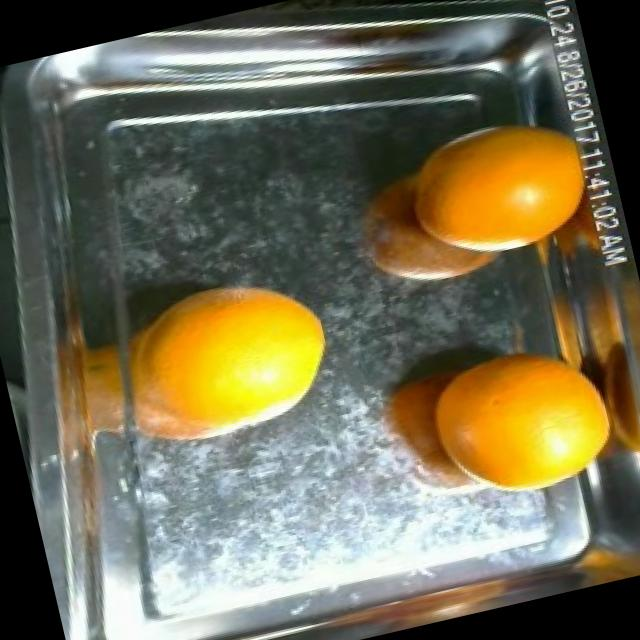Fruit: (122, 246, 362, 464), (397, 308, 639, 516), (382, 85, 618, 278)
